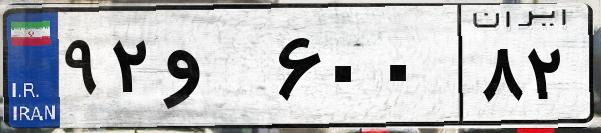0: (385, 28, 445, 110), (330, 28, 385, 110)
2: (525, 38, 570, 115), (110, 28, 158, 98)
6: (270, 28, 330, 110)
8: (475, 38, 525, 113)
9: (57, 26, 110, 100)
و: (158, 20, 270, 120)
